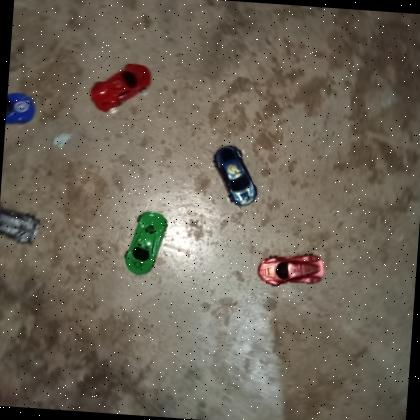Car: (87, 58, 154, 115), (209, 142, 263, 210), (122, 206, 170, 278), (256, 248, 326, 291)
